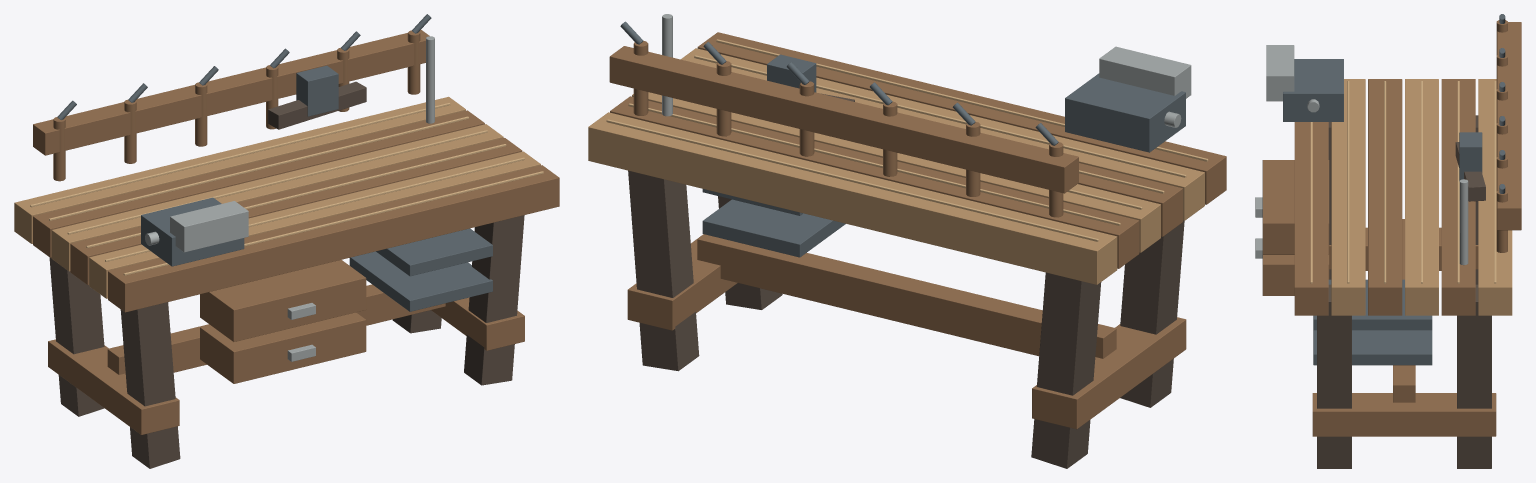
Rendered from 10_Survivor_Workbench.fbx.
3 views of the same model, side by side, from view 1: azimuth 30°, elevation 25°; view 2: azimuth 150°, elevation 25°; view 3: azimuth 270°, elevation 25° (orthographic). The views are drawn at different scales.
Parts seen in each view (by area): view 1: 10_Survivor_Workbench; view 2: 10_Survivor_Workbench; view 3: 10_Survivor_Workbench.
Boxes of the visible parts, x1=… form: 10_Survivor_Workbench: x1=14, y1=14, x2=559, y2=468; 10_Survivor_Workbench: x1=588, y1=14, x2=1226, y2=468; 10_Survivor_Workbench: x1=1255, y1=14, x2=1521, y2=468.
Bounding box in the file's own units: 2.82 × 1.83 × 1.52.
